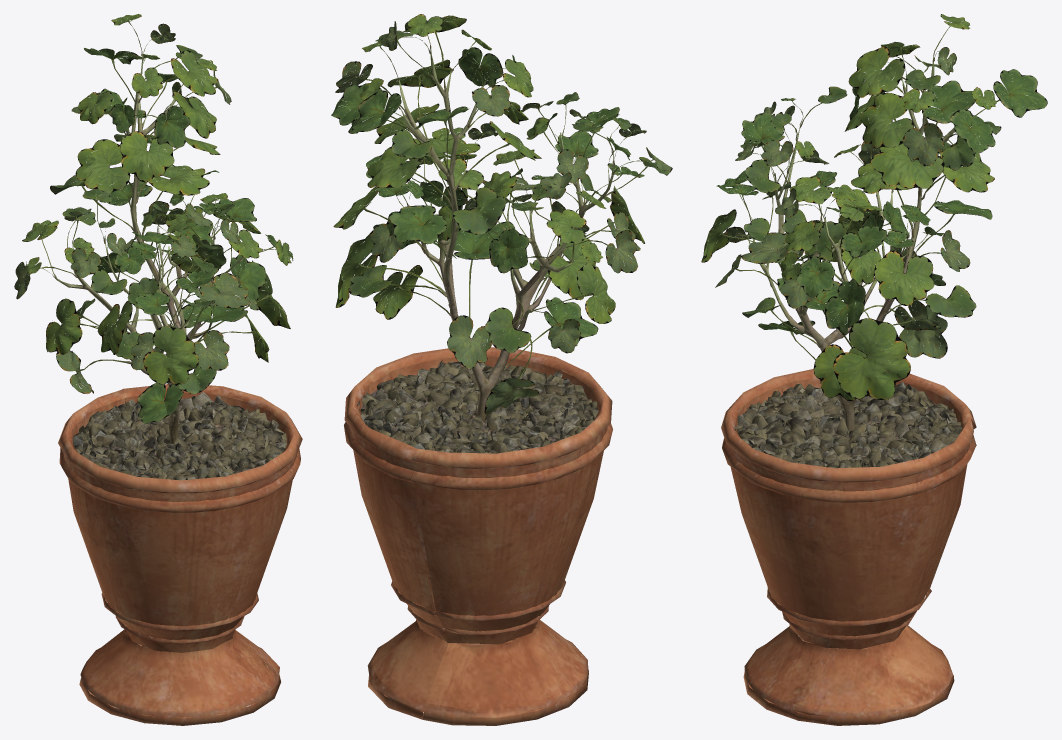
Rendered from detail.fbx.
3 renders of one model, left to right at view 1: azimuth 30°, elevation 25°; view 2: azimuth 150°, elevation 25°; view 3: azimuth 270°, elevation 25°, orthographic. The views are drawn at different scales.
Parts seen in each view (by area): view 1: potted_plant_01_pot, potted_plant_01_leaves, potted_plant_01_pebbles, potted_plant_01_stem; view 2: potted_plant_01_pot, potted_plant_01_leaves, potted_plant_01_pebbles, potted_plant_01_stem; view 3: potted_plant_01_pot, potted_plant_01_leaves, potted_plant_01_pebbles, potted_plant_01_stem.
Boxes of the visible parts, x1,y1,x2,y2 form: potted_plant_01_pot: [58, 384, 302, 725]; potted_plant_01_leaves: [14, 14, 293, 423]; potted_plant_01_pebbles: [72, 392, 288, 493]; potted_plant_01_stem: [54, 54, 244, 443]; potted_plant_01_pot: [344, 347, 612, 725]; potted_plant_01_leaves: [331, 14, 672, 414]; potted_plant_01_pebbles: [357, 360, 598, 468]; potted_plant_01_stem: [399, 48, 613, 420]; potted_plant_01_pot: [721, 369, 976, 725]; potted_plant_01_leaves: [701, 14, 1047, 401]; potted_plant_01_pebbles: [734, 382, 962, 482]; potted_plant_01_stem: [752, 55, 967, 430].
Size of the model in its own units: 58.72 by 134 by 63.36.
